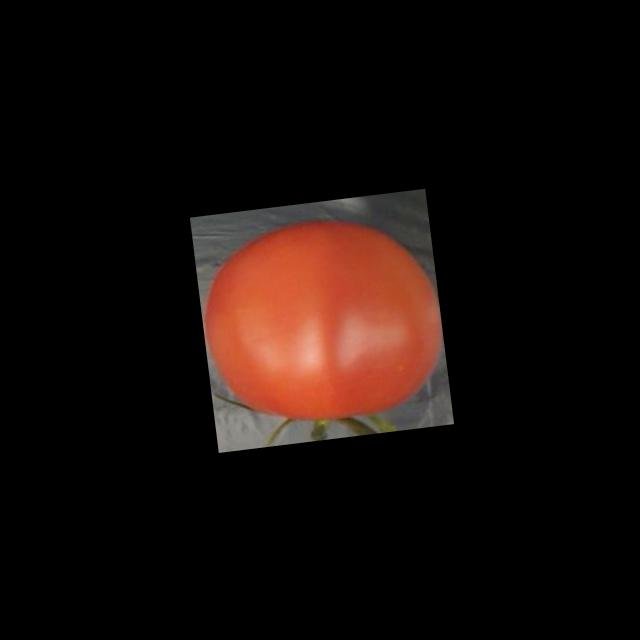tomato: (189, 197, 449, 437)
